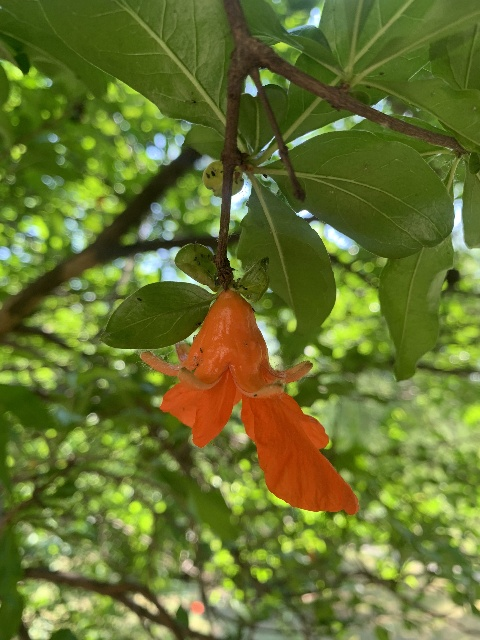flower: (139, 290, 360, 515)
